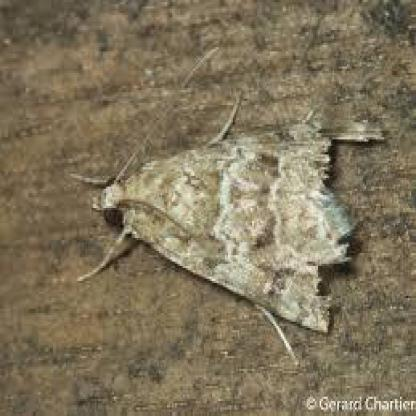Hellula undalis: (58, 41, 385, 369)
